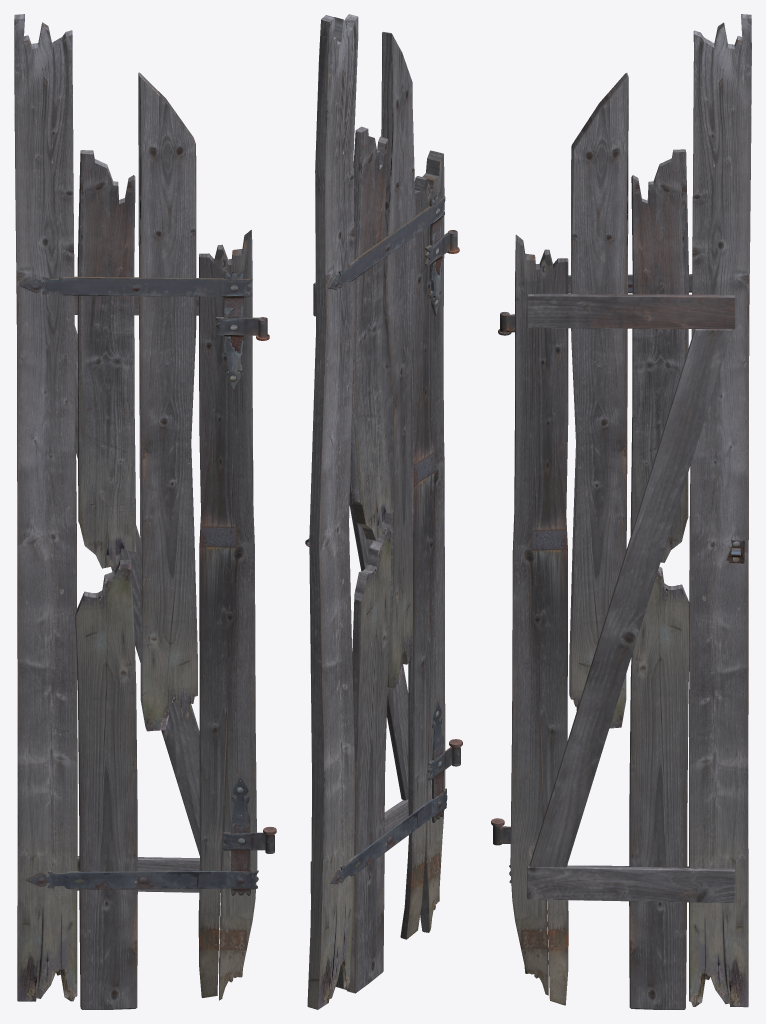
File: sm_Door_01_01.fbx
3 renders of one model, left to right at view 1: azimuth 90°, elevation 25°; view 2: azimuth 150°, elevation 25°; view 3: azimuth 270°, elevation 25°, orthographic.
Visible parts, largest first — view 1: sm_Door_01_01_LOD0; view 2: sm_Door_01_01_LOD0; view 3: sm_Door_01_01_LOD0.
Part boxes in pixels (x1,y1,x2,y2): sm_Door_01_01_LOD0: [14, 14, 276, 1009]; sm_Door_01_01_LOD0: [305, 14, 462, 1009]; sm_Door_01_01_LOD0: [491, 14, 751, 1009].
Size of the model in its own units: 10.72 by 71.16 by 298.
